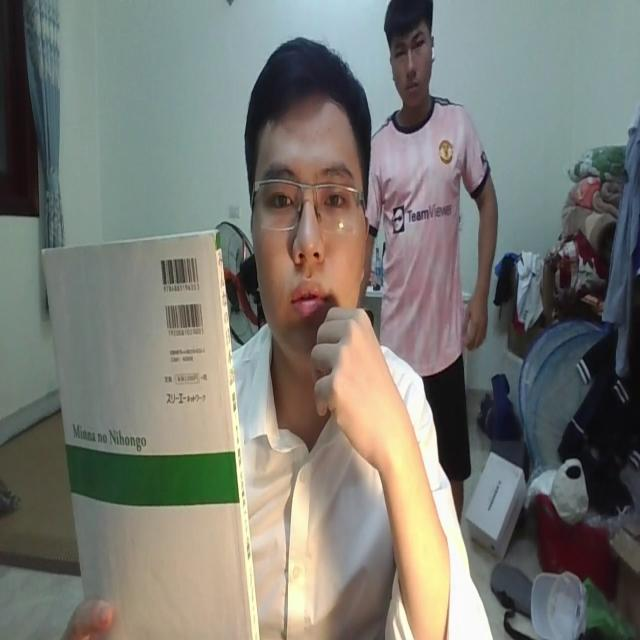book: (39, 230, 259, 640)
extra_person: (365, 2, 500, 510)
student: (231, 33, 485, 640)
